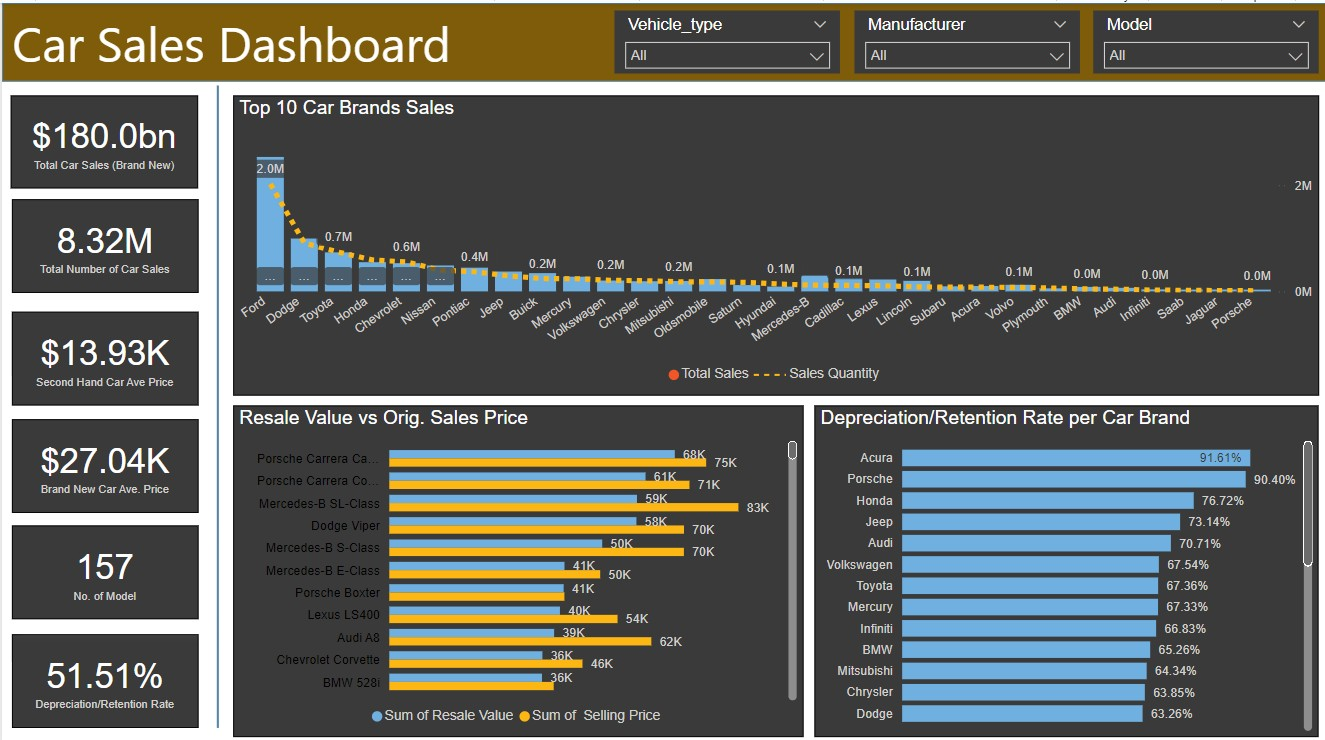

What the dashboard file says about the page in this screenshot:
{"tool":"powerbi","page":{"name":"Overview","canvas":[1280,720],"ordinal":0},"visuals":[{"type":"card","fields":{"Values":["Sum(Car_sales. total_sales )"]},"box":[8.6,89.3,181,89.3],"z":0},{"type":"card","fields":{"Values":["Avg(Car_sales. resale_value )"]},"box":[9.8,298.4,179.8,90.5],"z":1000},{"type":"card","fields":{"Values":["Sum(Car_sales. sales_quantity )"]},"box":[9.8,189.5,179.8,90.5],"z":2000},{"type":"shape","box":[0,0,1280.3,75.8],"z":3000},{"type":"card","fields":{"Values":["Avg(Car_sales. selling_price )"]},"box":[9.8,402.3,179.8,90.5],"z":4000},{"type":"shape","box":[193.2,79.5,30.6,620],"z":5000},{"type":"lineClusteredColumnComboChart","title":"Top 10 Car Brands Sales","fields":{"Category":["Car_sales.Manufacturer","Car_sales.Model"],"Y":["Sum(Car_sales. total_sales )"],"Y2":["Sum(Car_sales. sales_quantity )"]},"box":[223.8,89.3,1048,289.8],"z":6000},{"type":"clusteredBarChart","title":"Resale Value vs Orig. Sales Price","fields":{"Category":["Car_sales.Manufacturer","Car_sales.Car brand"],"Y":["Sum(Car_sales. resale_value )","Sum(Car_sales. selling_price )"]},"box":[223.8,388.9,550.3,320.4],"z":7000},{"type":"card","fields":{"Values":["Car_sales.Depreciation Rate"]},"box":[9.8,609,179.8,90.5],"z":8000},{"type":"clusteredBarChart","title":"Depreciation/Retention Rate per Car Brand","fields":{"Category":["Car_sales.Manufacturer","Car_sales.Model"],"Y":["Car_sales.Depreciation Rate"]},"box":[783.8,388.9,486.7,320.4],"z":9000},{"type":"slicer","fields":{"Values":["Car_sales.Model"]},"box":[1052.9,7.3,217.7,61.1],"z":10000},{"type":"slicer","fields":{"Values":["Car_sales.Manufacturer"]},"box":[823,7.3,217.7,61.1],"z":11000},{"type":"card","fields":{"Values":["CountNonNull(Car_sales.Model)"]},"box":[9.8,503.8,179.8,90.5],"z":12000},{"type":"slicer","fields":{"Values":["Car_sales.Vehicle_type"]},"box":[590.6,7.3,217.7,61.1],"z":13000}]}

Visuals, with their boxes in screenshot pixels (x1, y1, x2, y2), scaled from the page's 1280x720 canvas onto the 1325x740 screenshot:
card - Sum(Car_sales. total_sales ): 9/92/196/184
card - Avg(Car_sales. resale_value ): 10/307/196/400
card - Sum(Car_sales. sales_quantity ): 10/195/196/288
shape: 0/0/1324/78
card - Avg(Car_sales. selling_price ): 10/413/196/506
shape: 200/82/232/719
"Top 10 Car Brands Sales" lineClusteredColumnComboChart: 232/92/1317/390
"Resale Value vs Orig. Sales Price" clusteredBarChart: 232/400/801/729
card - Car_sales.Depreciation Rate: 10/626/196/719
"Depreciation/Retention Rate per Car Brand" clusteredBarChart: 811/400/1315/729
slicer - Car_sales.Model: 1090/8/1315/70
slicer - Car_sales.Manufacturer: 852/8/1077/70
card - CountNonNull(Car_sales.Model): 10/518/196/611
slicer - Car_sales.Vehicle_type: 611/8/837/70
